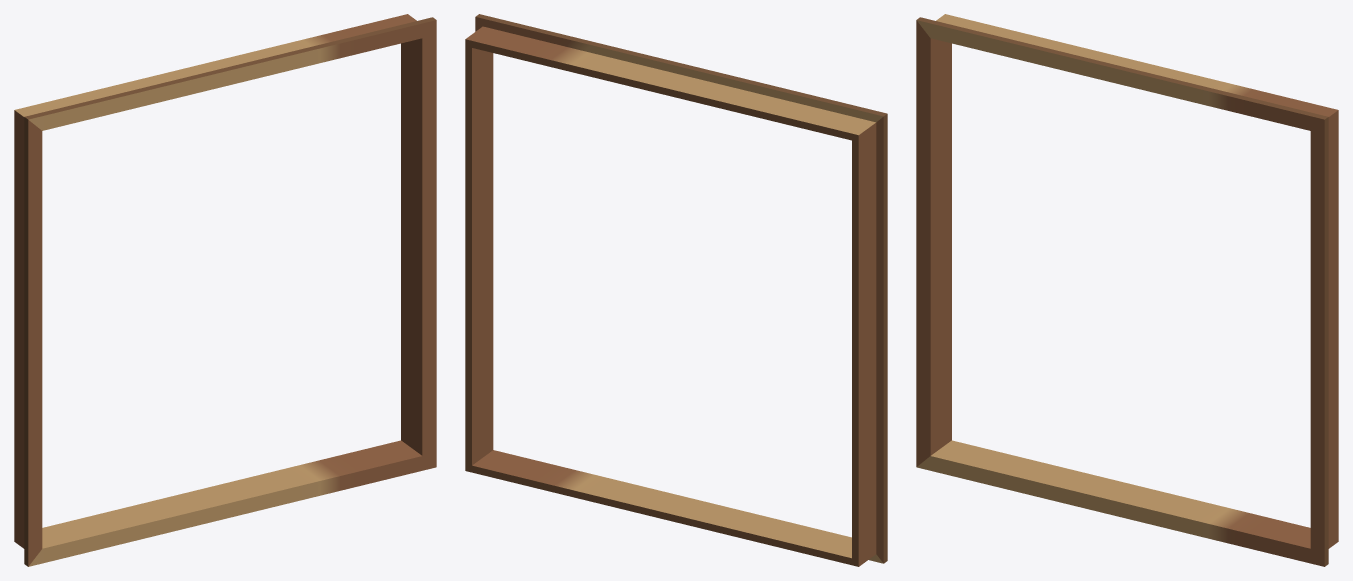
File: DBK_WinBig_Trim_A_Full.fbx
3 views of the same model, side by side, from view 1: azimuth 30°, elevation 25°; view 2: azimuth 150°, elevation 25°; view 3: azimuth 330°, elevation 25° (orthographic).
Parts seen in each view (by area): view 1: DBK_WinBig_Trim_A_Full; view 2: DBK_WinBig_Trim_A_Full; view 3: DBK_WinBig_Trim_A_Full.
Boxes of the visible parts, x1,y1,x2,y2 form: DBK_WinBig_Trim_A_Full: (14,14,436,566); DBK_WinBig_Trim_A_Full: (465,14,887,566); DBK_WinBig_Trim_A_Full: (916,14,1338,566).
Bounding box in the file's own units: 214 × 224 × 19.37.
